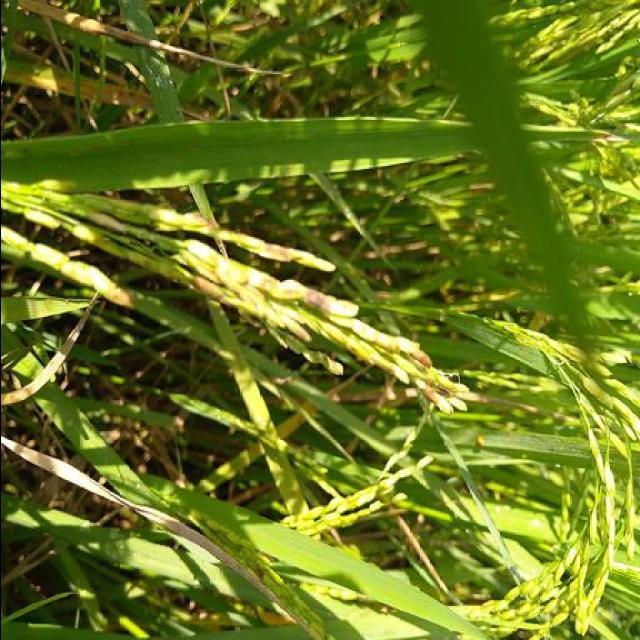Leaf Blight: (0, 434, 278, 603), (0, 293, 96, 407)
Panicle Blight: (247, 268, 358, 316), (409, 351, 463, 416), (156, 209, 216, 237), (96, 283, 131, 308), (84, 210, 121, 230), (281, 319, 310, 342), (191, 276, 221, 293)
